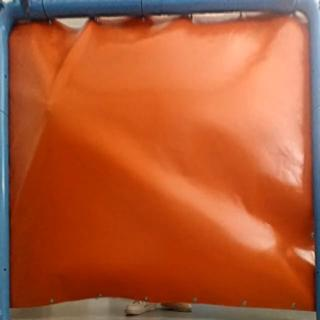Hit-hRxx: (43, 98, 59, 115)
